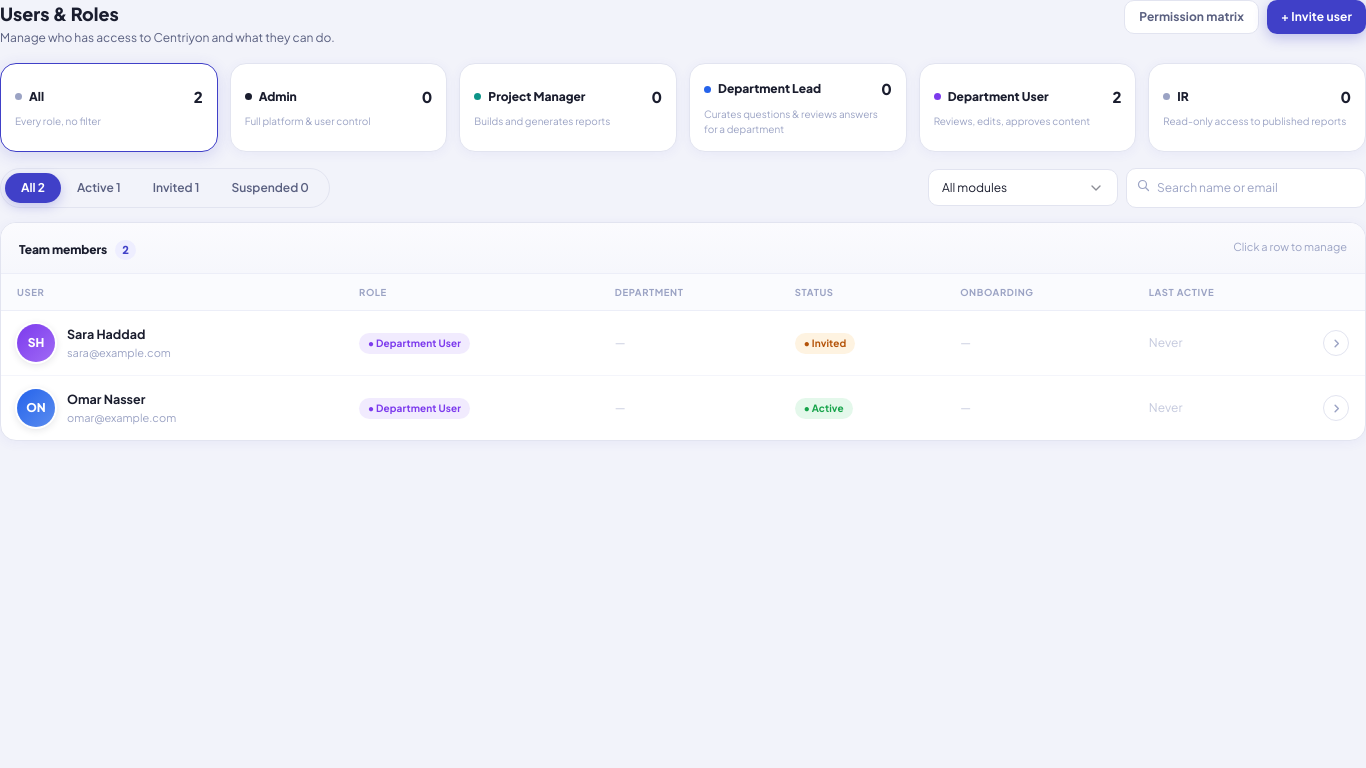
Test: temp password controls › reveals the password on demand for a user who hasn't activated
Click the text "Sara Haddad" at (106, 334), box [67, 326, 145, 342]
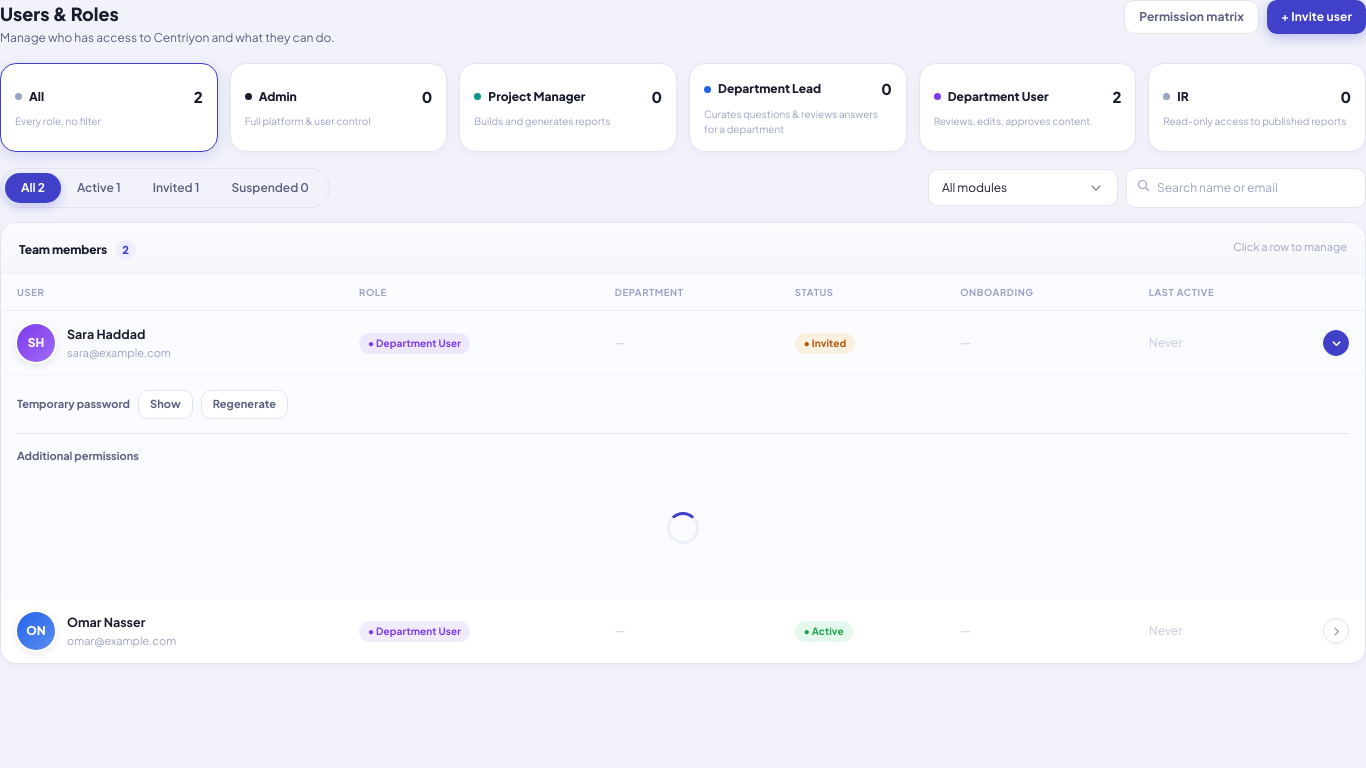
Click the button "Show" at (165, 404), box [138, 390, 193, 418]
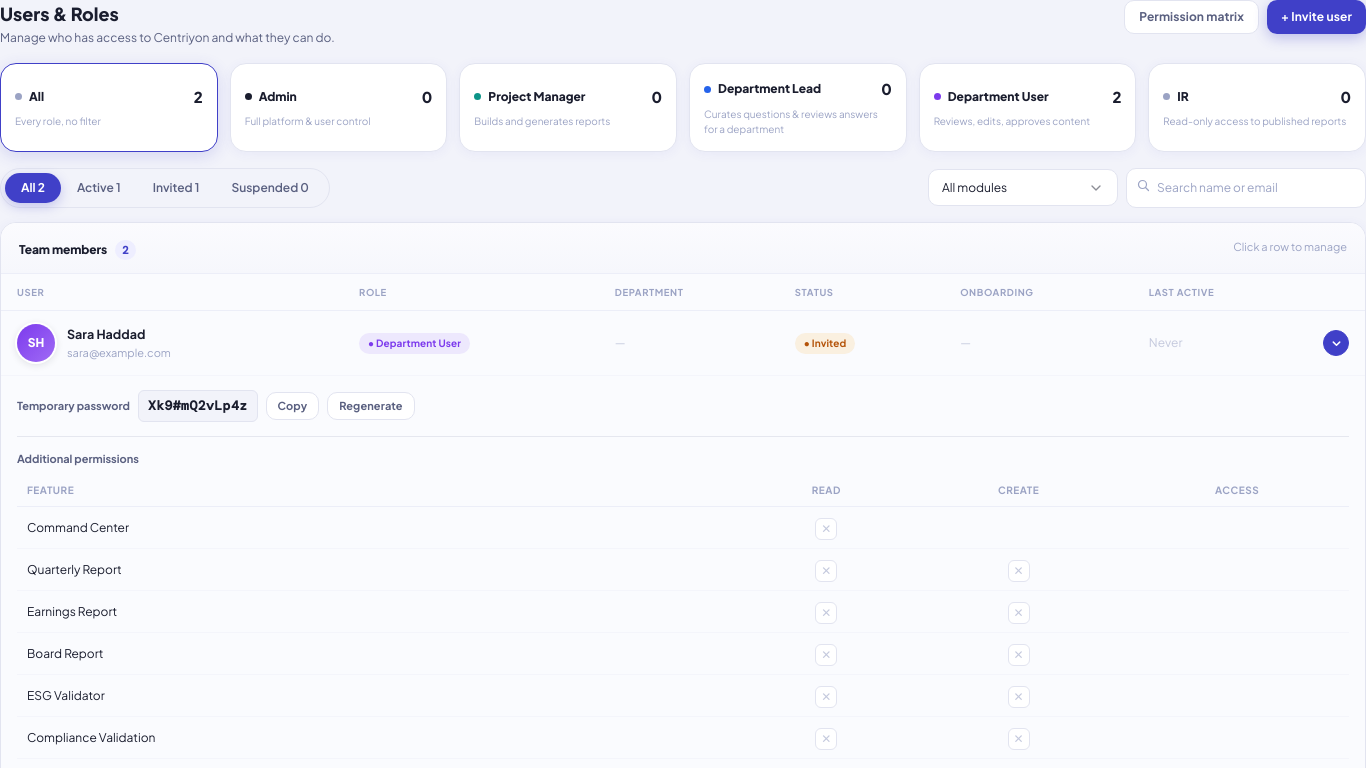
Result: the text "Xk9#mQ2vLp4z" is shown at [138, 390, 258, 422]
